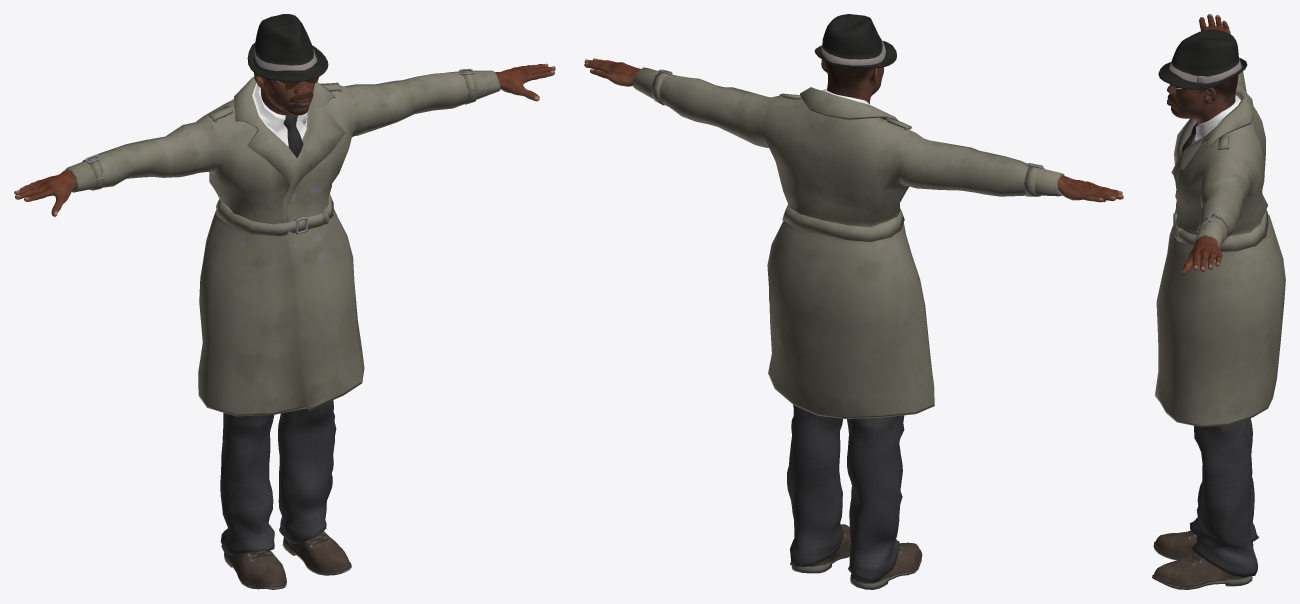
Rendered from EnemyMachineGun.obj.
3 views of the same model, side by side, from view 1: azimuth 30°, elevation 25°; view 2: azimuth 150°, elevation 25°; view 3: azimuth 270°, elevation 25° (orthographic). The views are drawn at different scales.
Visible parts, largest first — view 1: Tops, Bottoms, Body, Hats, Shoes; view 2: Tops, Bottoms, Body, Hats, Shoes; view 3: Tops, Bottoms, Hats, Body, Shoes.
Part boxes in pixels (bbox=[...]): Tops: bbox=[65, 68, 500, 416]; Bottoms: bbox=[220, 400, 336, 556]; Body: bbox=[14, 63, 555, 216]; Hats: bbox=[247, 14, 328, 81]; Shoes: bbox=[224, 531, 351, 589]; Tops: bbox=[633, 67, 1064, 418]; Bottoms: bbox=[787, 405, 904, 582]; Body: bbox=[584, 58, 1123, 202]; Hats: bbox=[814, 14, 896, 68]; Shoes: bbox=[791, 524, 922, 589]; Tops: bbox=[1155, 71, 1285, 427]; Bottoms: bbox=[1190, 418, 1258, 576]; Hats: bbox=[1158, 29, 1247, 89]; Body: bbox=[1167, 14, 1238, 275]; Shoes: bbox=[1152, 530, 1253, 589].
Size of the model in its own units: 193 by 187 by 42.49.
Materials: 1 (1 with a texture image).
